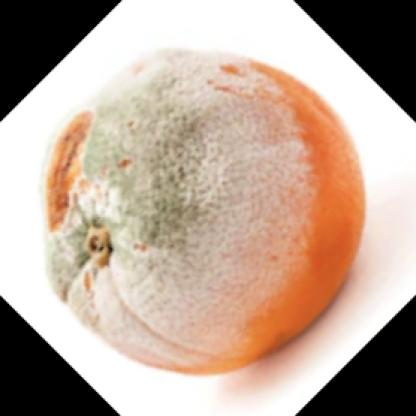rotten: (45, 47, 365, 374)
